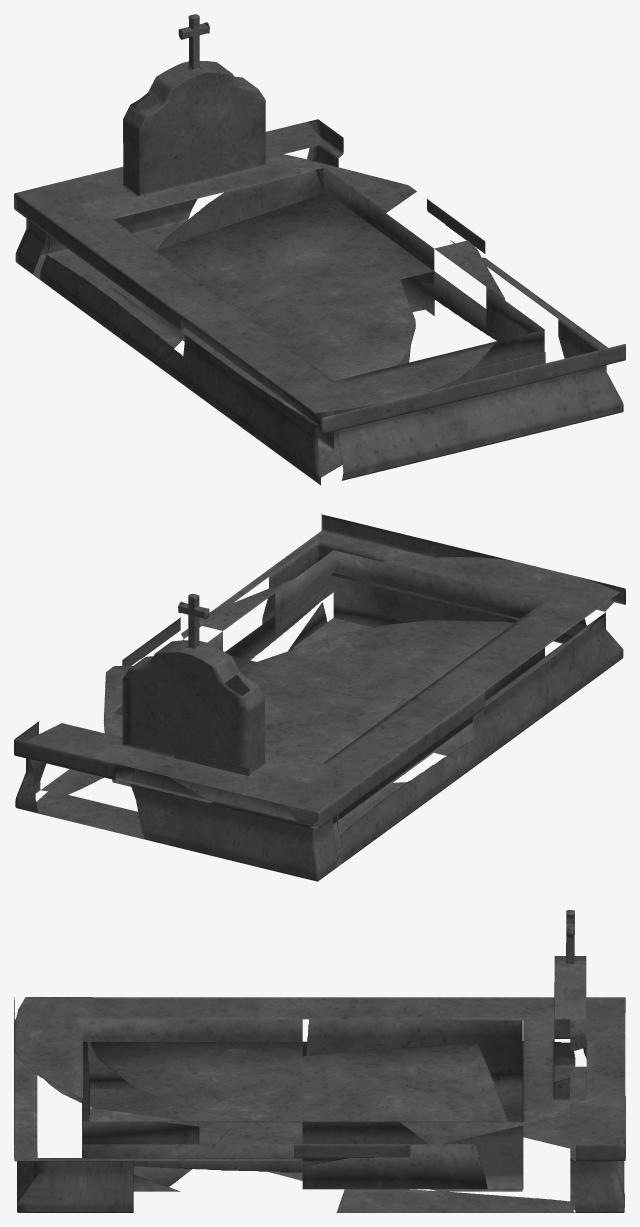
File: grave_05.fbx
3 renders of one model, top to bottom at view 1: azimuth 30°, elevation 25°; view 2: azimuth 150°, elevation 25°; view 3: azimuth 270°, elevation 25°, orthographic.
Parts seen in each view (by area): view 1: grave.004; view 2: grave.004; view 3: grave.004.
Boxes of the visible parts, left/top/right/bottom form: grave.004: left=14, top=14, right=625, bottom=485; grave.004: left=14, top=514, right=625, bottom=881; grave.004: left=14, top=910, right=625, bottom=1212.
Size of the model in its own units: 212 by 153 by 370.
